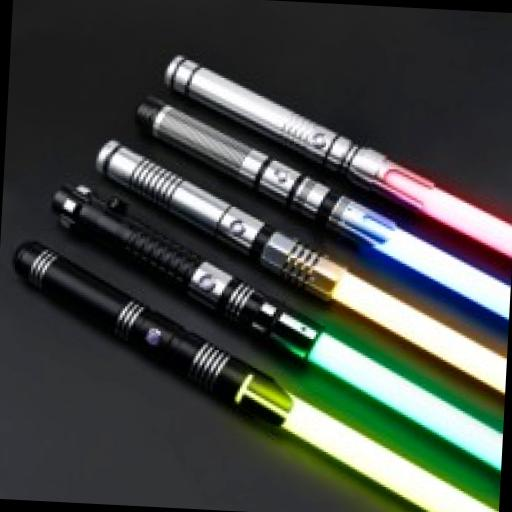lightsaber: (37, 177, 512, 472), (5, 237, 512, 512), (84, 138, 512, 395), (127, 93, 512, 318)
sith saber: (157, 52, 512, 261)
